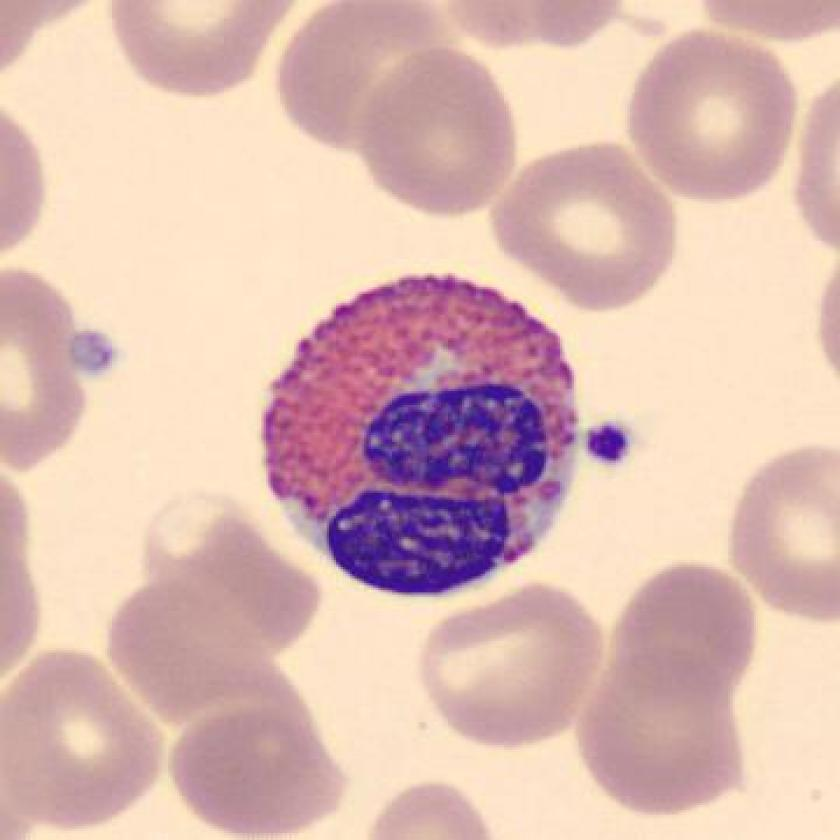eosinophil: (246, 267, 598, 607)
